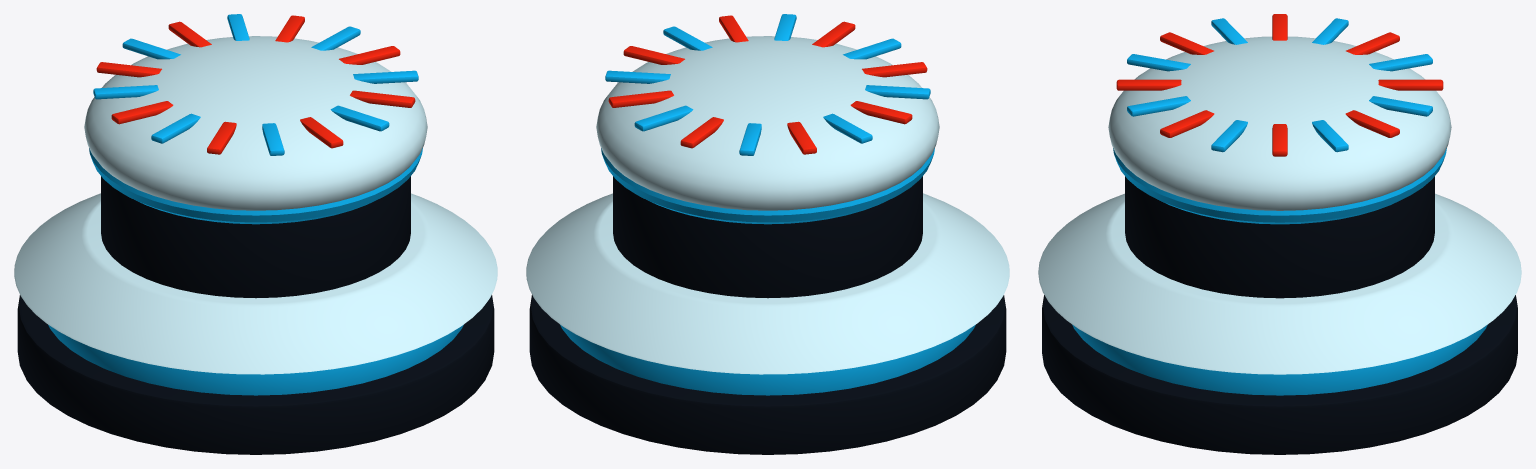
File: pinball_bumper.obj
3 views of the same model, side by side, from view 1: azimuth 30°, elevation 25°; view 2: azimuth 150°, elevation 25°; view 3: azimuth 270°, elevation 25° (orthographic).
Visible parts, largest first — view 1: PinballBumperBody; view 2: PinballBumperBody; view 3: PinballBumperBody.
Boxes of the visible parts, x1=… form: PinballBumperBody: x1=14, y1=14, x2=497, y2=454; PinballBumperBody: x1=526, y1=14, x2=1009, y2=454; PinballBumperBody: x1=1038, y1=14, x2=1521, y2=454.
Size of the model in its own units: 1.75 by 1.13 by 1.75.
Materials: 4 (4 with a texture image).
